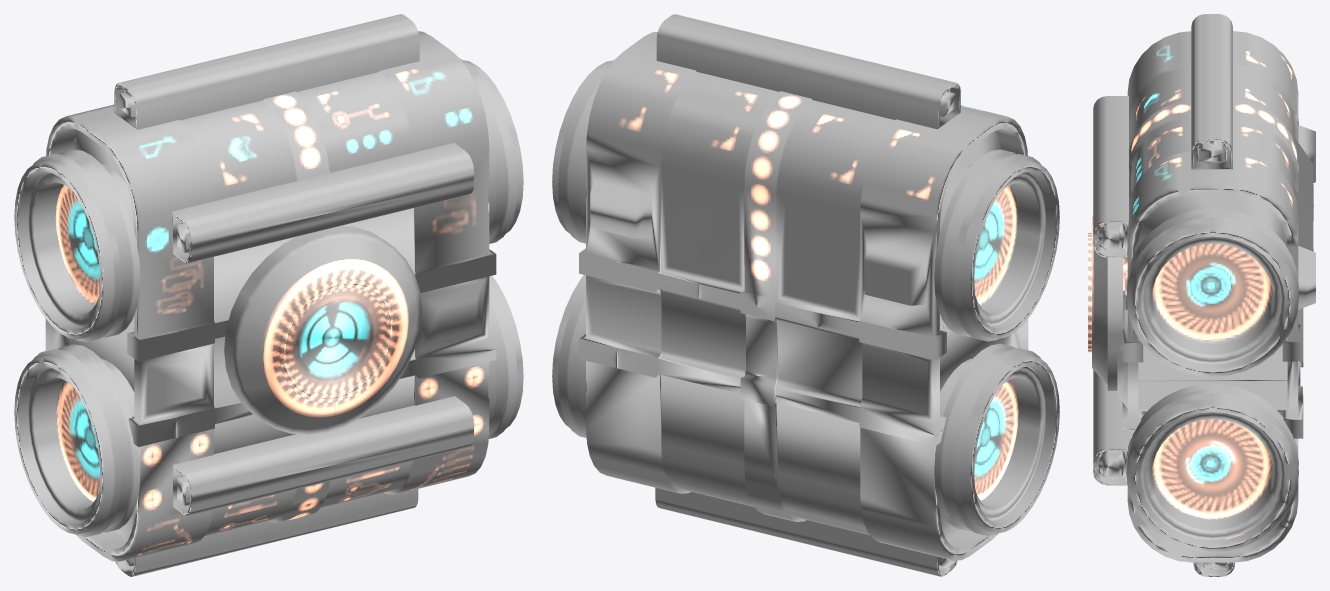
File: SM_BigShip_EngineLeft.fbx
The picture shows the model from 3 angles, left to right: view 1: azimuth 30°, elevation 25°; view 2: azimuth 150°, elevation 25°; view 3: azimuth 270°, elevation 25°; orthographic projection. The views are drawn at different scales.
Visible parts, largest first — view 1: SM_BigShip_EngineLeft_LOD0; view 2: SM_BigShip_EngineLeft_LOD0; view 3: SM_BigShip_EngineLeft_LOD0.
Part boxes in pixels (x1,y1,x2,y2): SM_BigShip_EngineLeft_LOD0: (14, 14, 523, 576); SM_BigShip_EngineLeft_LOD0: (552, 14, 1059, 576); SM_BigShip_EngineLeft_LOD0: (1088, 14, 1315, 576).
Bounding box in the file's own units: 5518 × 6143 × 2889.
